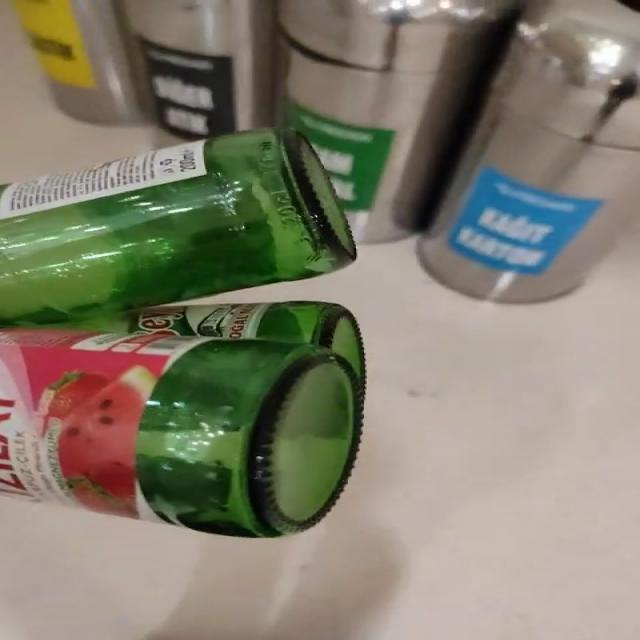Bin: (11, 0, 640, 303)
Glass: (0, 129, 365, 538)
